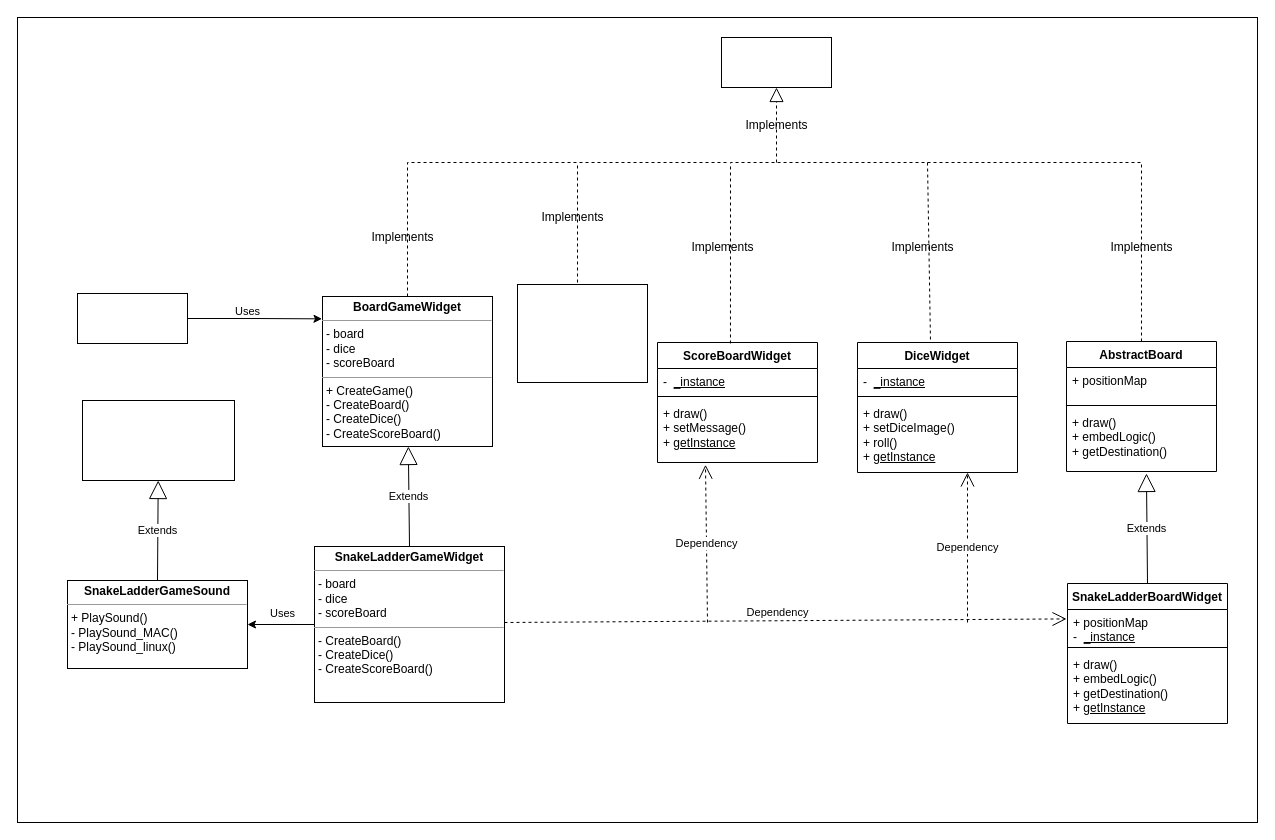
The diagram is 1275 pixels wide and 840 high, and some of its shapes have lost their labels. Here are the shapes that lost their labels. From the top down, the centre of each, then its label:
(776,62): «interface» FL_Widget
(132,318): Client
(582,333): PlayerWidget + getPosition() + updateCordinates() + updatePosition()
(158,440): SoundDriver + PlaySound()
